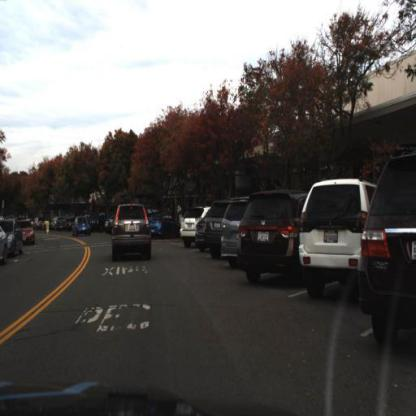car: (361, 152, 415, 348), (297, 167, 370, 308), (299, 176, 370, 311), (238, 182, 304, 287), (107, 200, 154, 261), (217, 192, 247, 265), (178, 205, 206, 247), (13, 214, 37, 254), (0, 214, 22, 256), (148, 208, 172, 246), (69, 212, 95, 241), (194, 212, 204, 250)
